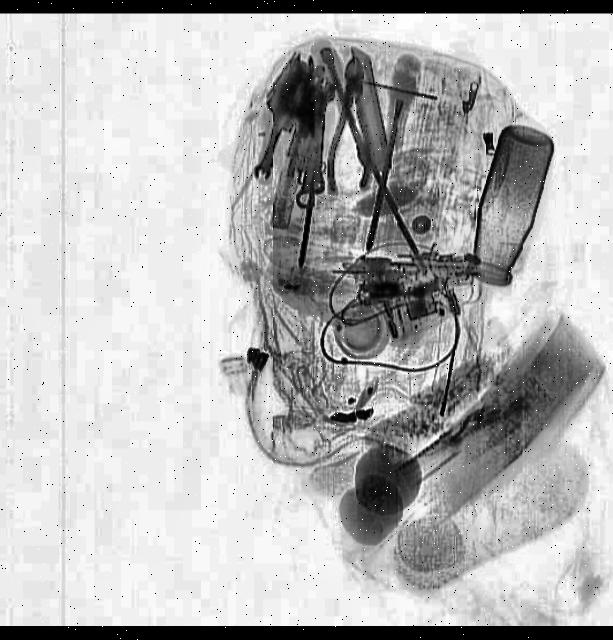Pliers: (322, 53, 375, 194)
Wrench: (246, 109, 286, 182)
